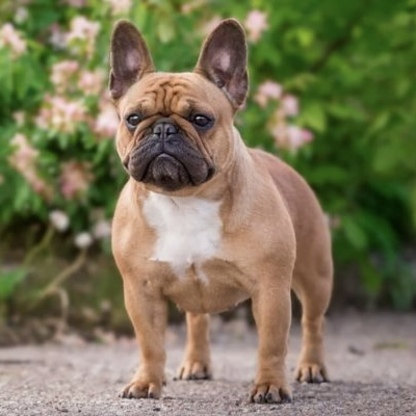bulldog: (100, 16, 338, 416)
